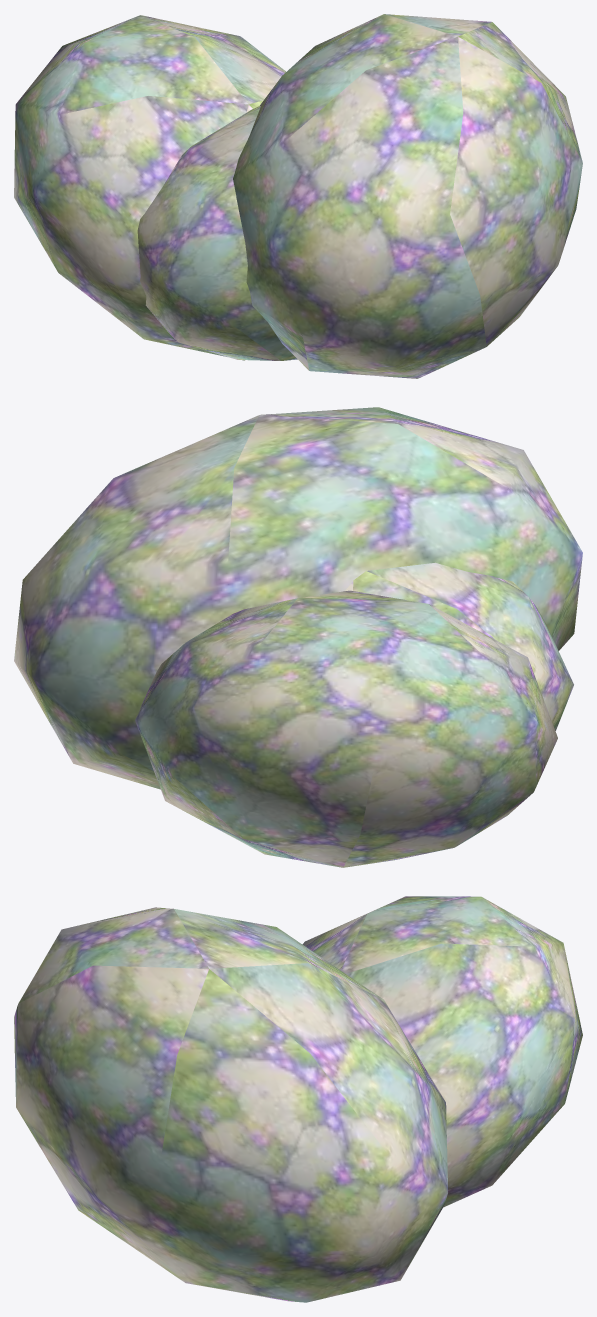
Rendered from scatter_rock.glb.
3 views of the same model, one above another, from view 1: azimuth 30°, elevation 25°; view 2: azimuth 150°, elevation 25°; view 3: azimuth 270°, elevation 25° (orthographic). The views are drawn at different scales.
Parts seen in each view (by area): view 1: Icosphere; view 2: Icosphere; view 3: Icosphere.
Boxes of the visible parts, box(x1,y1,x2,y2) form: Icosphere: box(14, 14, 582, 378); Icosphere: box(14, 407, 582, 867); Icosphere: box(14, 896, 582, 1302).
Bounding box in the file's own units: 1.29 × 0.8237 × 1.29.
2 materials, 1 textured.
